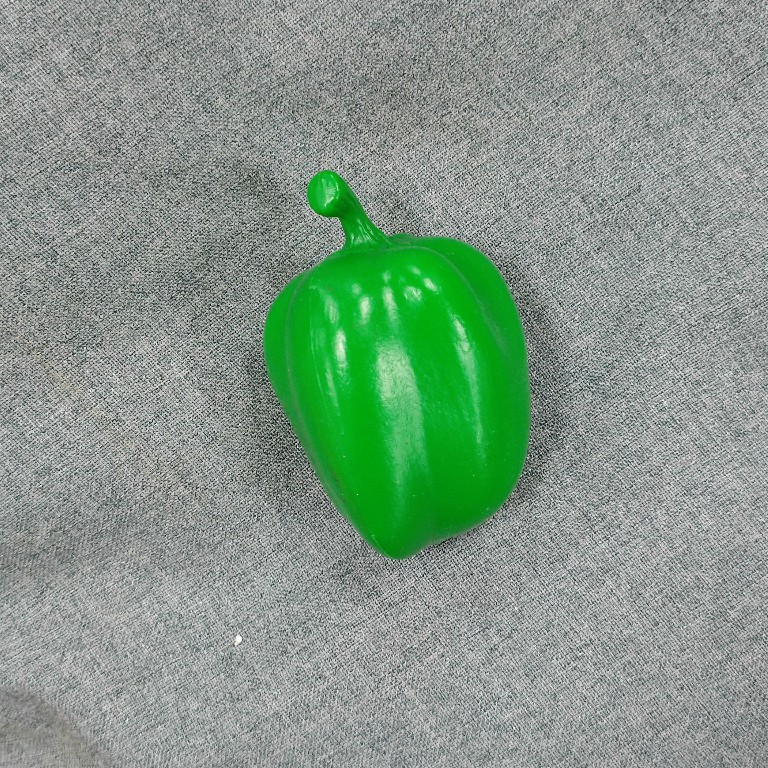fruit_pepper: (254, 166, 538, 566)
